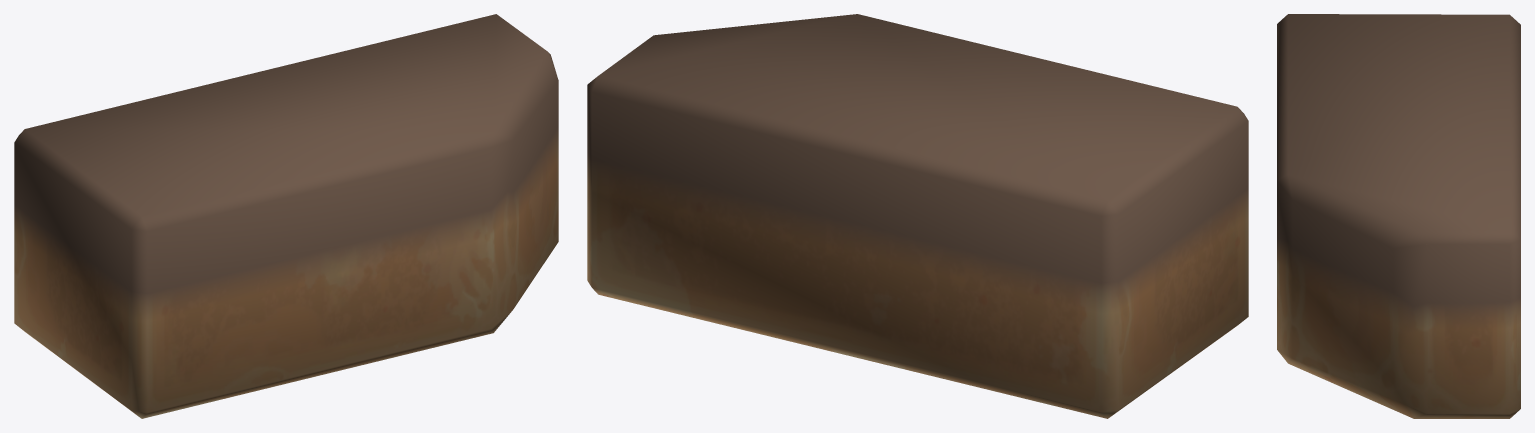
Rendered from SM_brick_05.glb.
3 renders of one model, left to right at view 1: azimuth 30°, elevation 25°; view 2: azimuth 150°, elevation 25°; view 3: azimuth 270°, elevation 25°, orthographic. The views are drawn at different scales.
Parts seen in each view (by area): view 1: SM_brick_05; view 2: SM_brick_05; view 3: SM_brick_05.
Part boxes in pixels (bbox=[...]): SM_brick_05: bbox=[14, 14, 558, 418]; SM_brick_05: bbox=[587, 14, 1248, 418]; SM_brick_05: bbox=[1277, 14, 1520, 418].
Size of the model in its own units: 0.5101 by 0.2 by 0.2335.
Materials: 1 (1 with a texture image).
